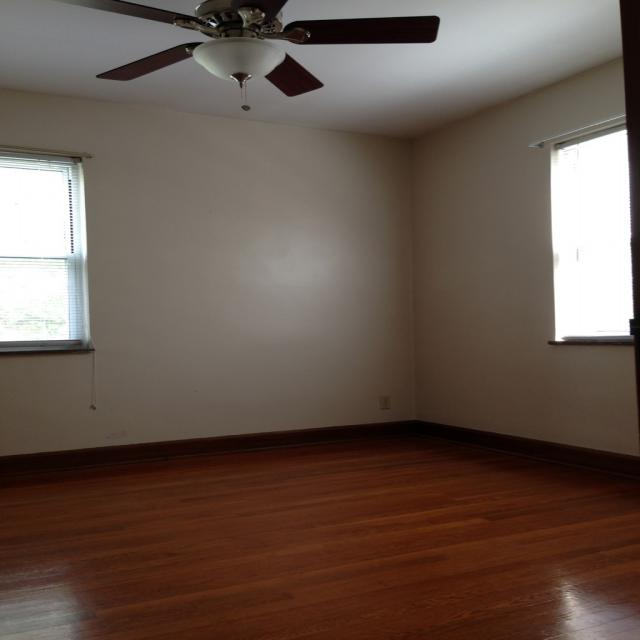Bulb: (60, 0, 441, 114)
